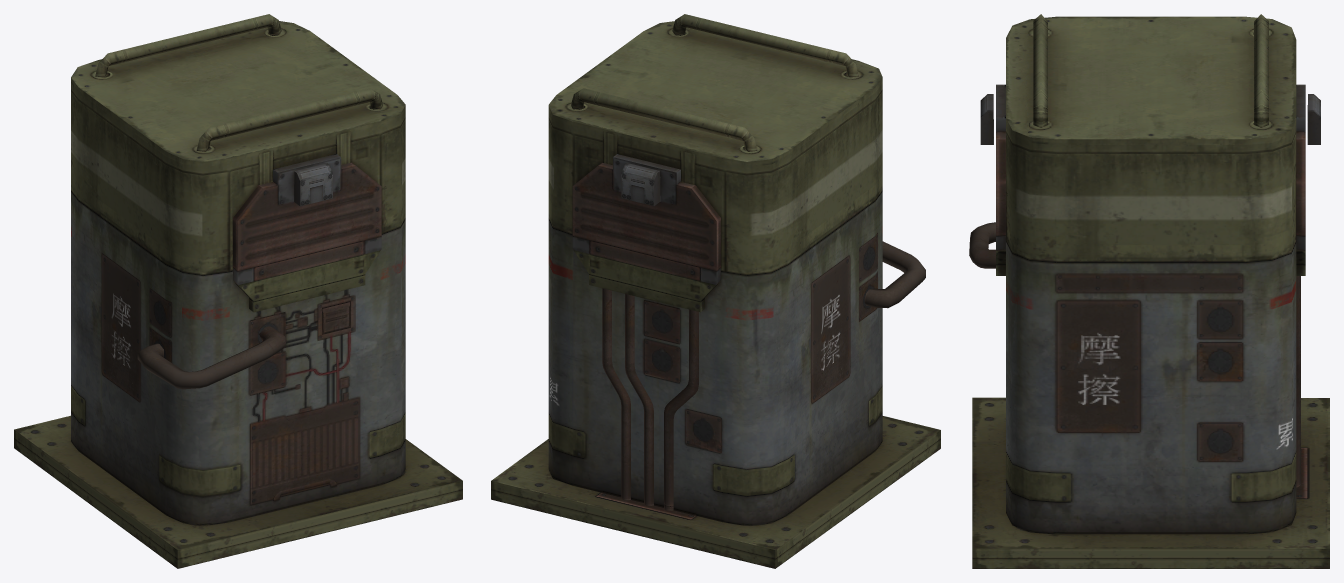
The model's file is generator_radio_single.dae.
The picture shows the model from 3 angles, left to right: view 1: azimuth 30°, elevation 25°; view 2: azimuth 150°, elevation 25°; view 3: azimuth 270°, elevation 25°; orthographic projection. The views are drawn at different scales.
Parts seen in each view (by area): view 1: generator_radio; view 2: generator_radio; view 3: generator_radio.
Part boxes in pixels (box(x1,y1,x2,y2)): generator_radio: box(14, 14, 462, 568); generator_radio: box(491, 14, 940, 568); generator_radio: box(969, 14, 1329, 568).
Bounding box in the file's own units: 3.12 × 4.22 × 3.15.
